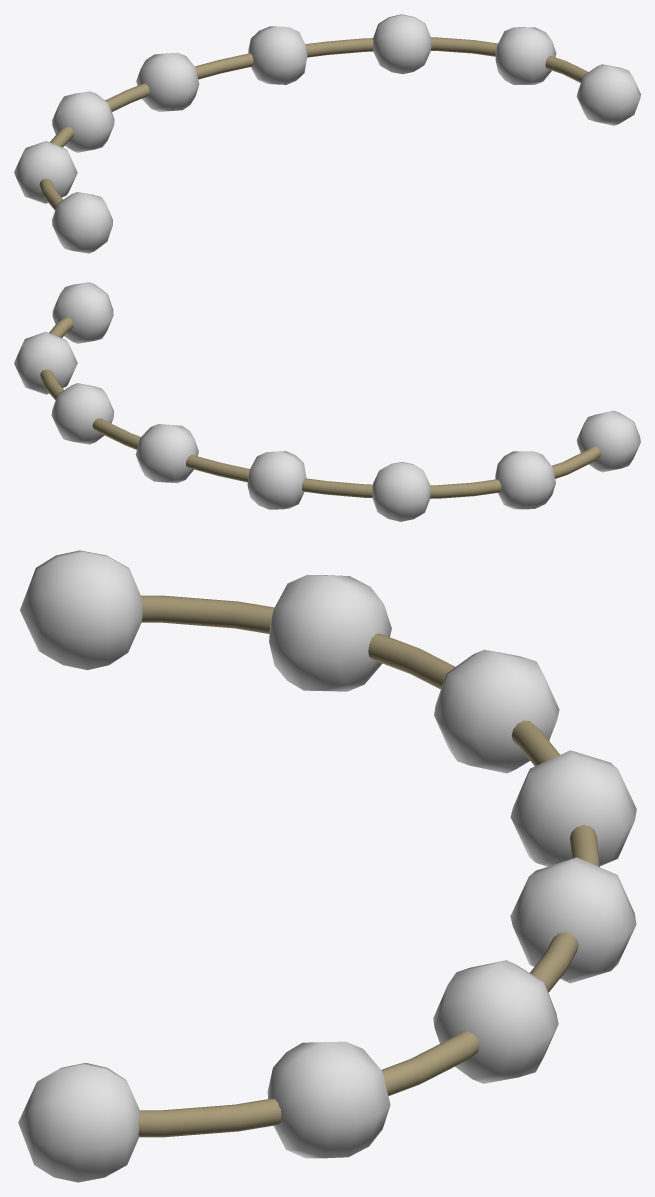
Rendered from beads_makBeads.fbx.
3 renders of one model, top to bottom at view 1: azimuth 30°, elevation 25°; view 2: azimuth 150°, elevation 25°; view 3: azimuth 270°, elevation 25°, orthographic. The views are drawn at different scales.
Parts seen in each view (by area): view 1: Sphere.002, makBeads; view 2: Sphere.002, makBeads; view 3: Sphere.002, makBeads.
Boxes of the visible parts, x1,y1,x2,y2 form: Sphere.002: (14, 14, 640, 253); makBeads: (39, 37, 588, 210); Sphere.002: (14, 282, 640, 521); makBeads: (40, 317, 600, 498); Sphere.002: (18, 550, 636, 1182); makBeads: (138, 595, 599, 1137).
Size of the model in its own units: 31.18 by 2.97 by 14.4.
